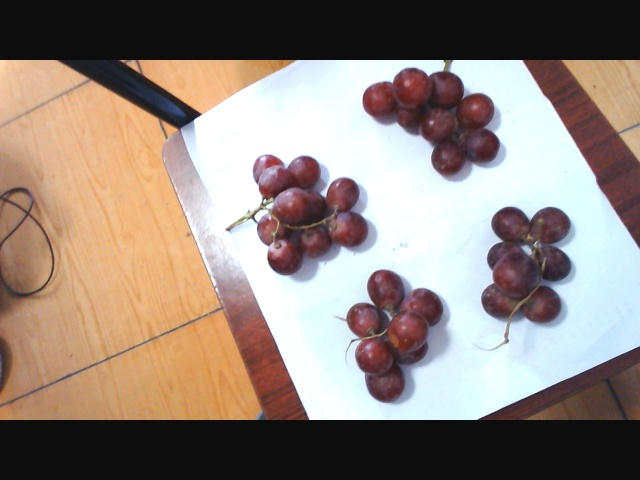grape: (247, 147, 374, 267), (366, 71, 504, 172), (482, 191, 579, 328), (342, 270, 442, 399)
